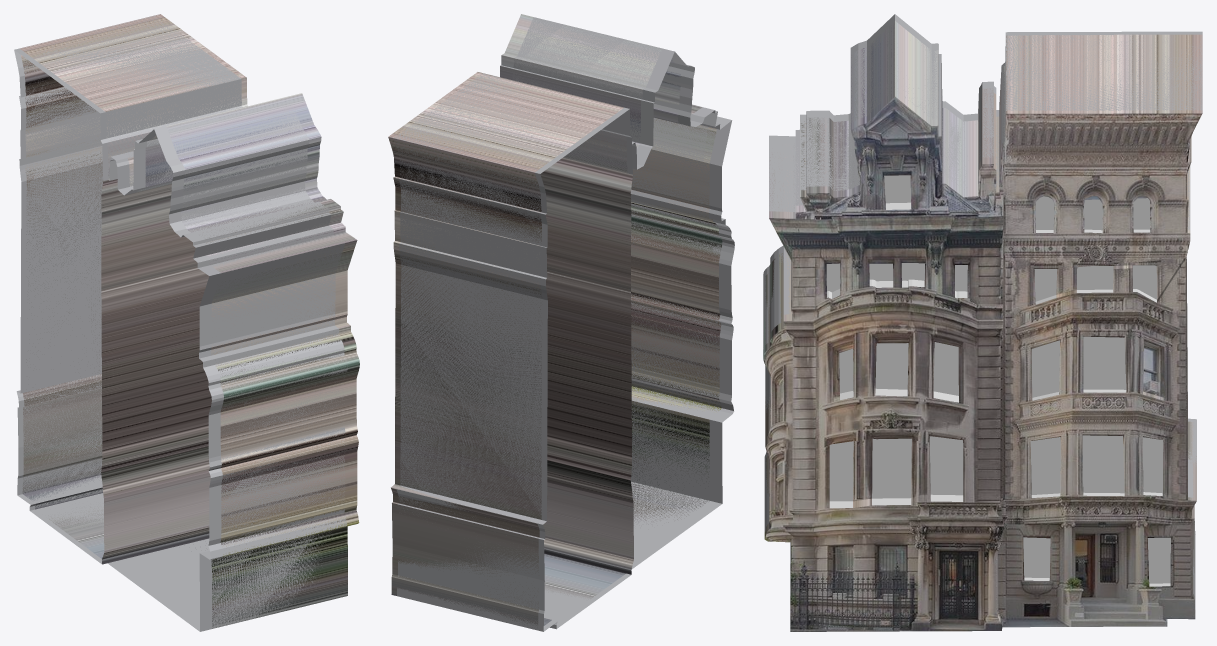
3 renders of one model, left to right at view 1: azimuth 30°, elevation 25°; view 2: azimuth 150°, elevation 25°; view 3: azimuth 270°, elevation 25°, orthographic. The views are drawn at different scales.
Parts seen in each view (by area): view 1: ev_0; view 2: ev_0; view 3: ev_0.
Part boxes in pixels (x1,y1,x2,y2): ev_0: (14,14,359,631); ev_0: (388,14,734,631); ev_0: (763,14,1202,631).
Bounding box in the file's own units: 100 × 293 × 218.
2 materials, 1 textured.
